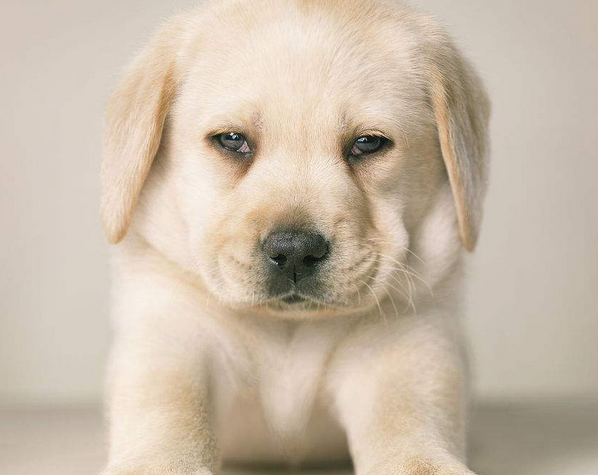nose: (258, 222, 345, 275)
